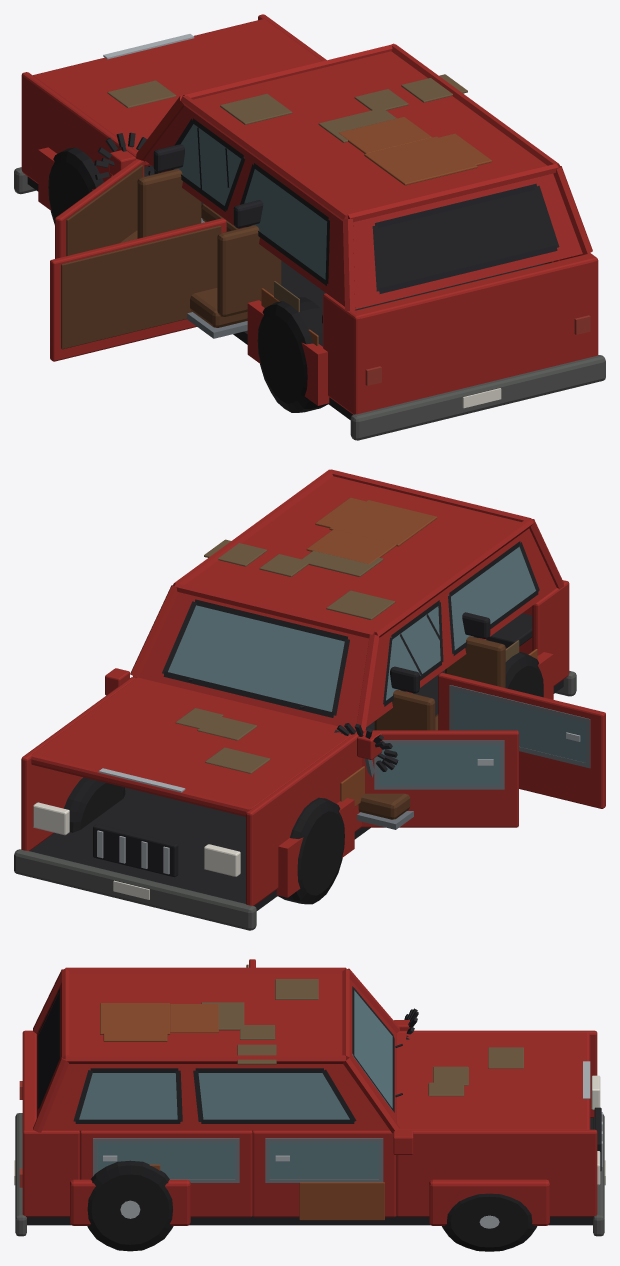
The model's file is car_jam_hatch.glb.
3 renders of one model, top to bottom at view 1: azimuth 30°, elevation 25°; view 2: azimuth 150°, elevation 25°; view 3: azimuth 270°, elevation 25°, orthographic. The views are drawn at different scales.
Visible parts, largest first — view 1: car_jam_hatch; view 2: car_jam_hatch; view 3: car_jam_hatch.
Part boxes in pixels (x1,y1,x2,y2): car_jam_hatch: (14, 14, 605, 440); car_jam_hatch: (14, 469, 605, 930); car_jam_hatch: (14, 959, 605, 1251).
Size of what is drawn, in the model's own units: 2.99 by 1.43 by 4.12.
2 materials, 2 textured.
